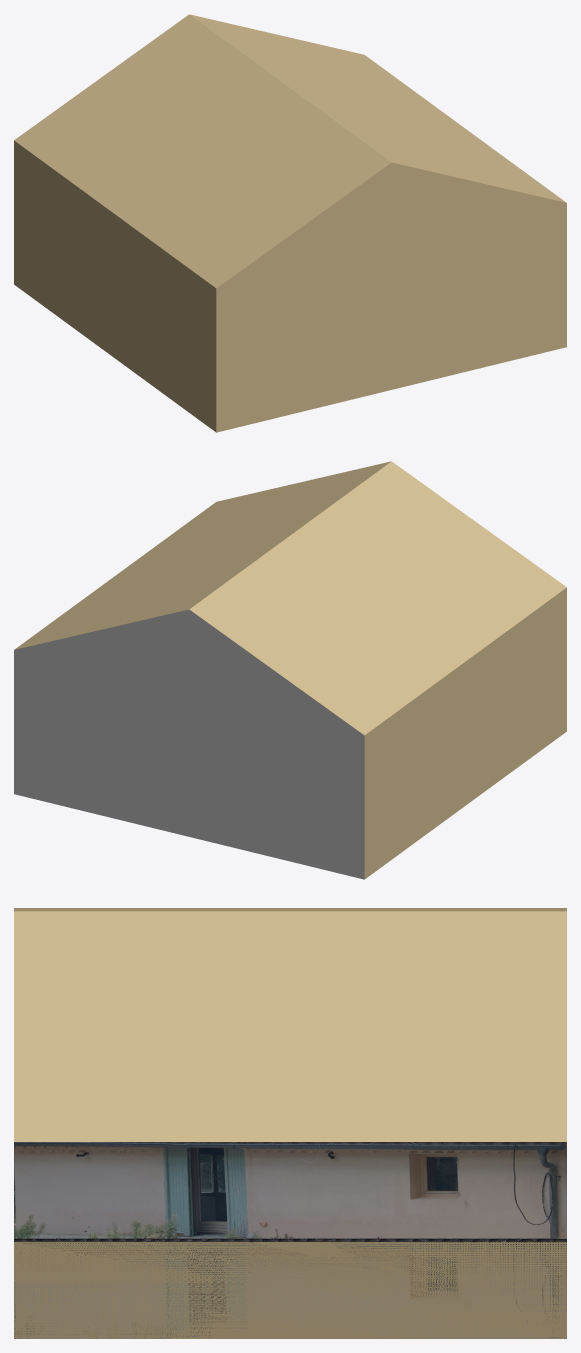
File: maison.dae
The picture shows the model from 3 angles, top to bottom: view 1: azimuth 30°, elevation 25°; view 2: azimuth 150°, elevation 25°; view 3: azimuth 270°, elevation 25°; orthographic projection. The views are drawn at different scales.
Visible parts, largest first — view 1: SketchUp; view 2: SketchUp (×2); view 3: SketchUp (×3).
Part boxes in pixels (x1,y1,x2,y2): SketchUp: [14, 14, 566, 432]; SketchUp (×2): [14, 461, 566, 879]; SketchUp (×3): [14, 908, 566, 1338].
Bounding box in the file's own units: 394 × 394 × 244.
